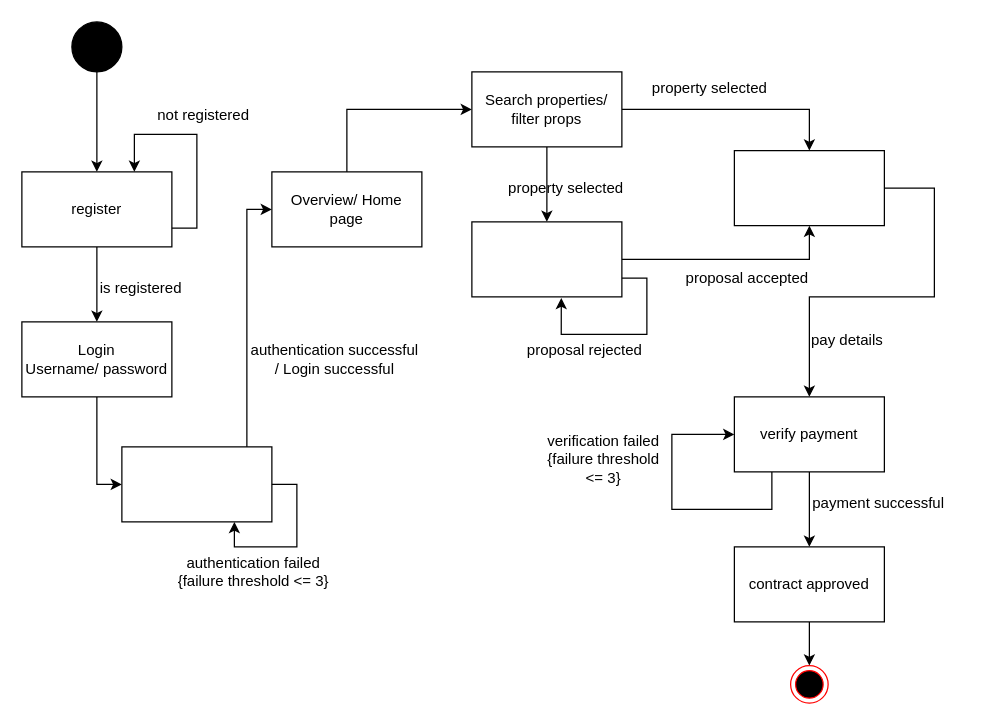
Image size: 981x725. Some labels were removed from this diagram. Here are the shapes that lost their labels. From the top down, the centre of each, then its label:
At point (808, 187): "Payment id, port".
At point (546, 259): "add proposal".
At point (196, 484): "Authenticate".
